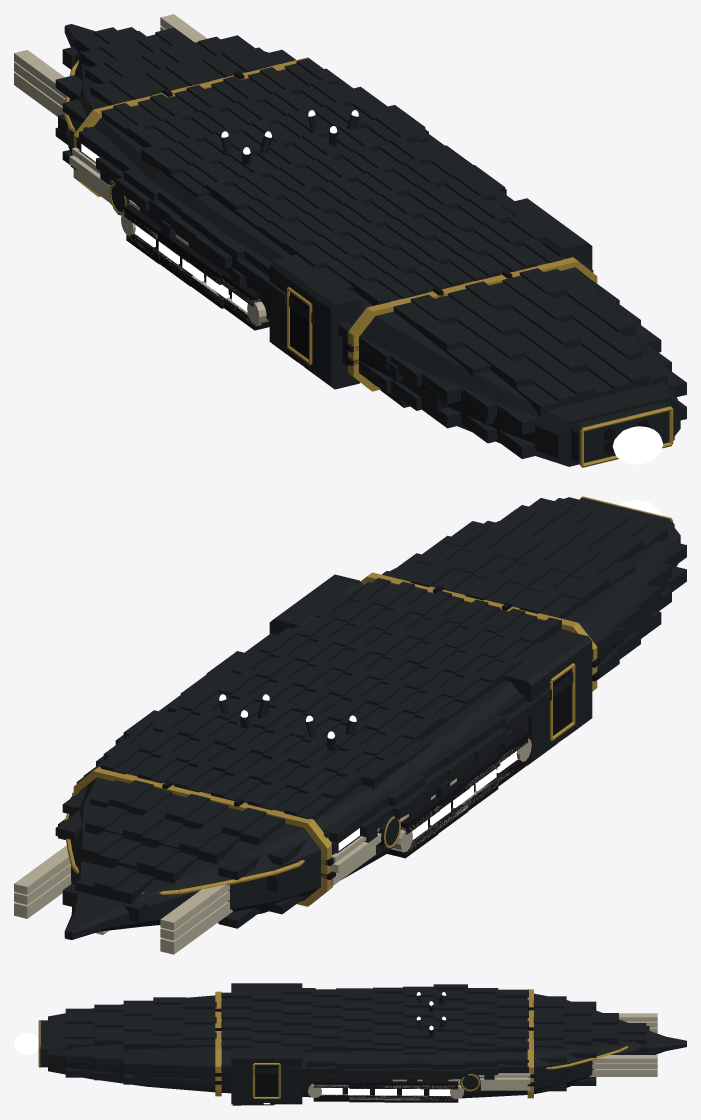
3 renders of one model, top to bottom at view 1: azimuth 30°, elevation 25°; view 2: azimuth 150°, elevation 25°; view 3: azimuth 270°, elevation 25°, orthographic. The views are drawn at different scales.
Visible parts, largest first — view 1: RIMWARD_HULL, RIMWARD_ENGINE_GLOW, RIMWARD_EMISSIVE; view 2: RIMWARD_HULL, RIMWARD_EMISSIVE; view 3: RIMWARD_HULL, RIMWARD_EMISSIVE, RIMWARD_ENGINE_GLOW.
Boxes of the visible parts, <box> form: RIMWARD_HULL: <box>14,14,686,467</box>; RIMWARD_ENGINE_GLOW: <box>612,426,663,464</box>; RIMWARD_EMISSIVE: <box>81,110,358,367</box>; RIMWARD_HULL: <box>14,496,686,954</box>; RIMWARD_EMISSIVE: <box>219,694,564,850</box>; RIMWARD_HULL: <box>38,983,686,1105</box>; RIMWARD_EMISSIVE: <box>263,992,450,1104</box>; RIMWARD_ENGINE_GLOW: <box>14,1032,38,1055</box>.
Bounding box in the file's own units: 2.94 × 1.41 × 10.43.
